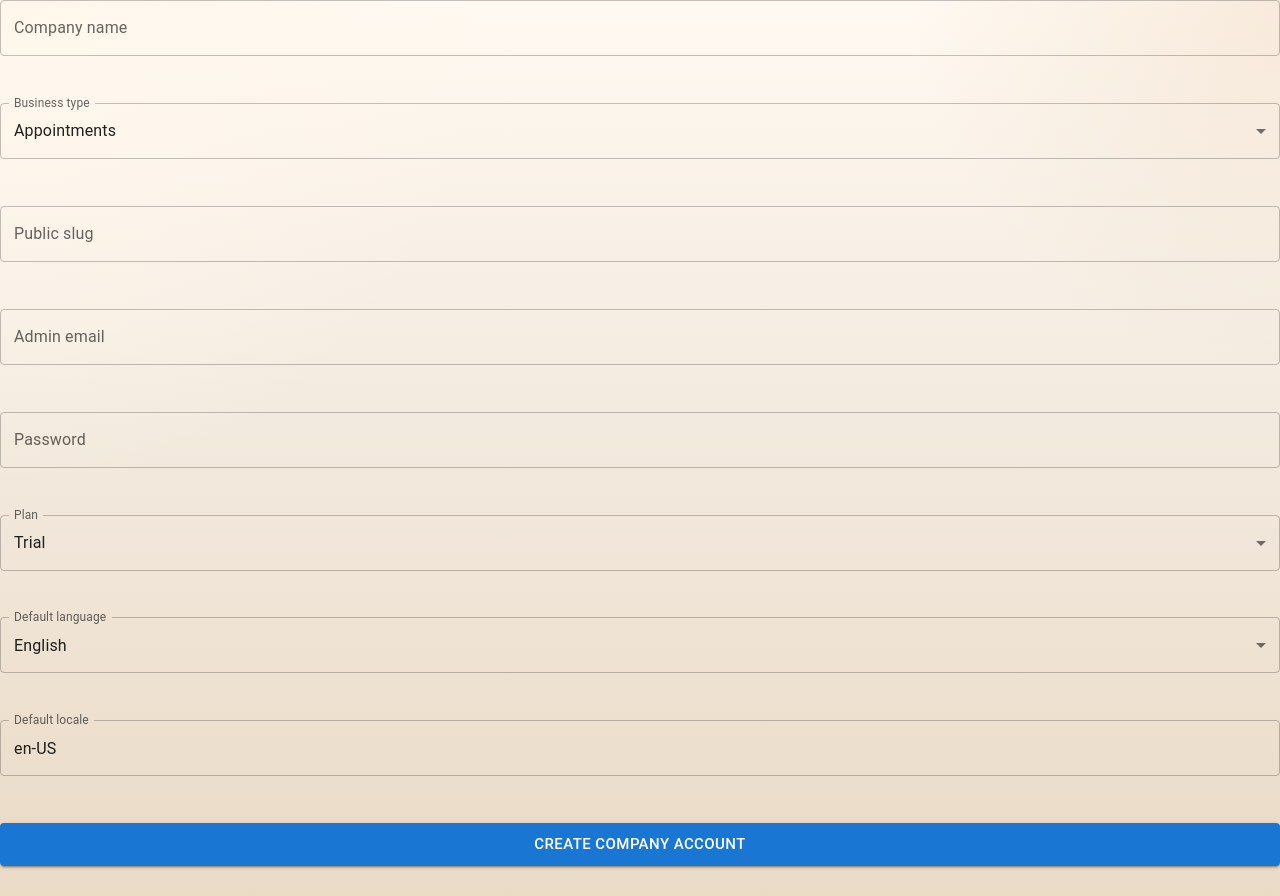
Test: RegistrationForm › submits valid registration data and shows the success message
Type "Acme Wellness" into the field labelled "Company name" at (640, 28), box [0,0,1279,56]
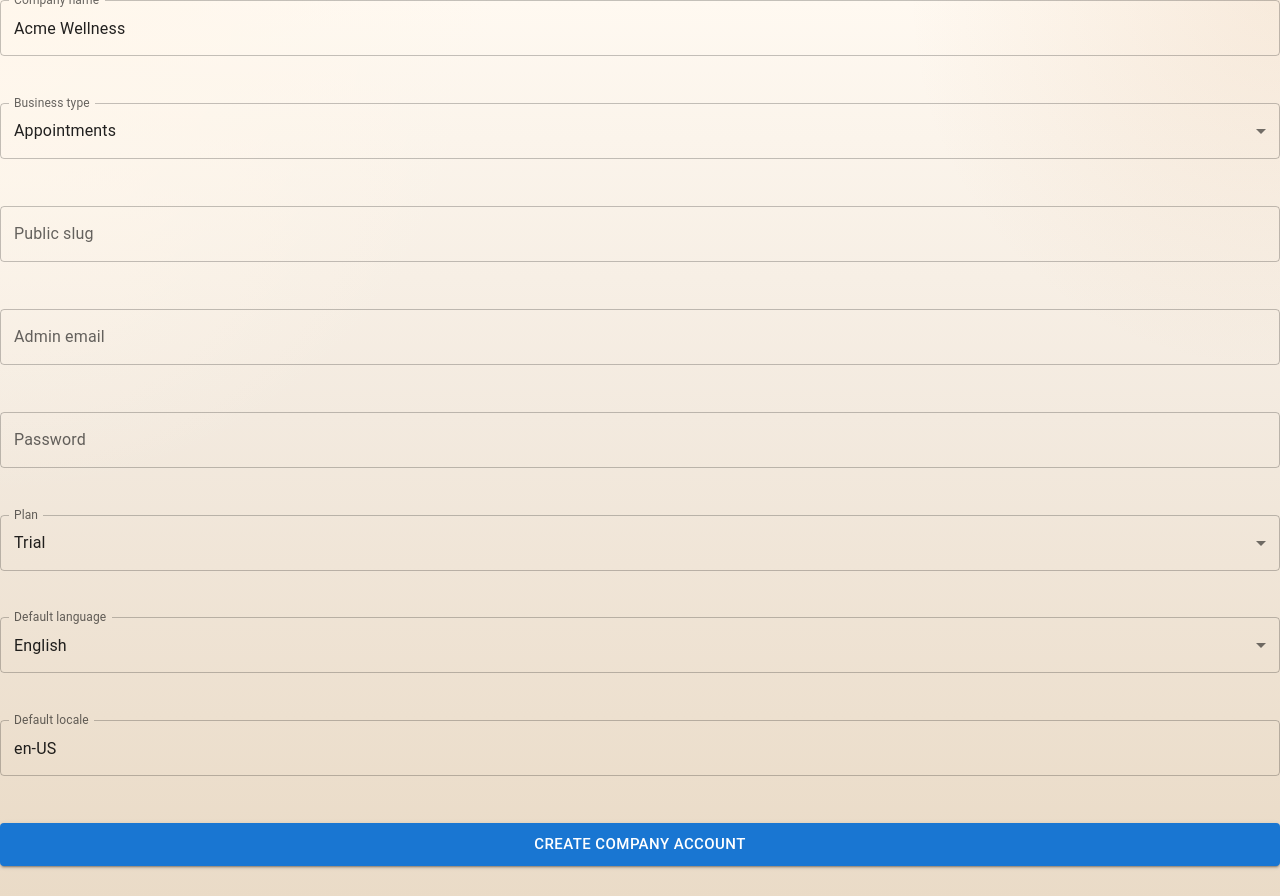
Type "acme-wellness" into the field labelled "Public slug" at (640, 234), box [0,206,1279,262]
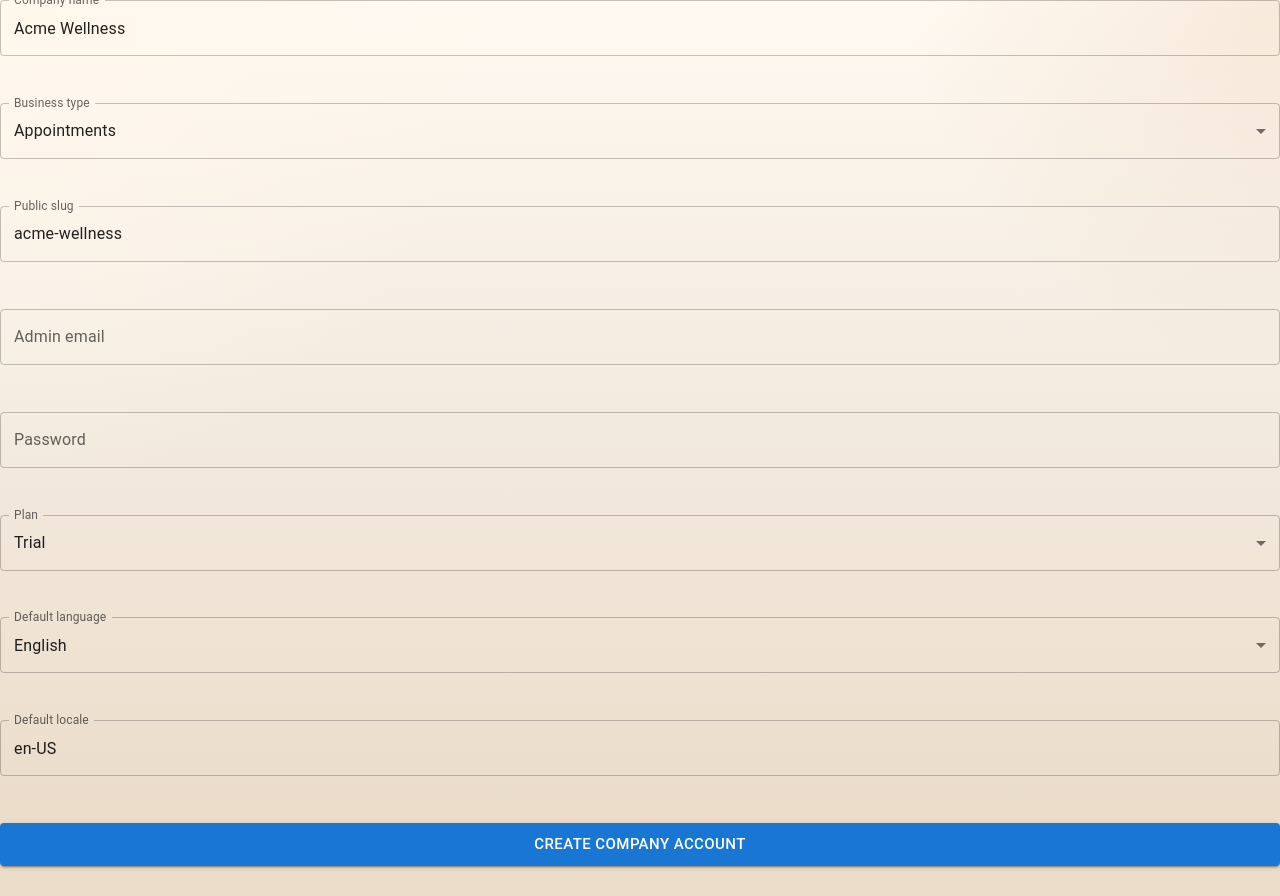
Type "admin@acme.com" into the field labelled "Admin email" at (640, 337), box [0,309,1279,365]
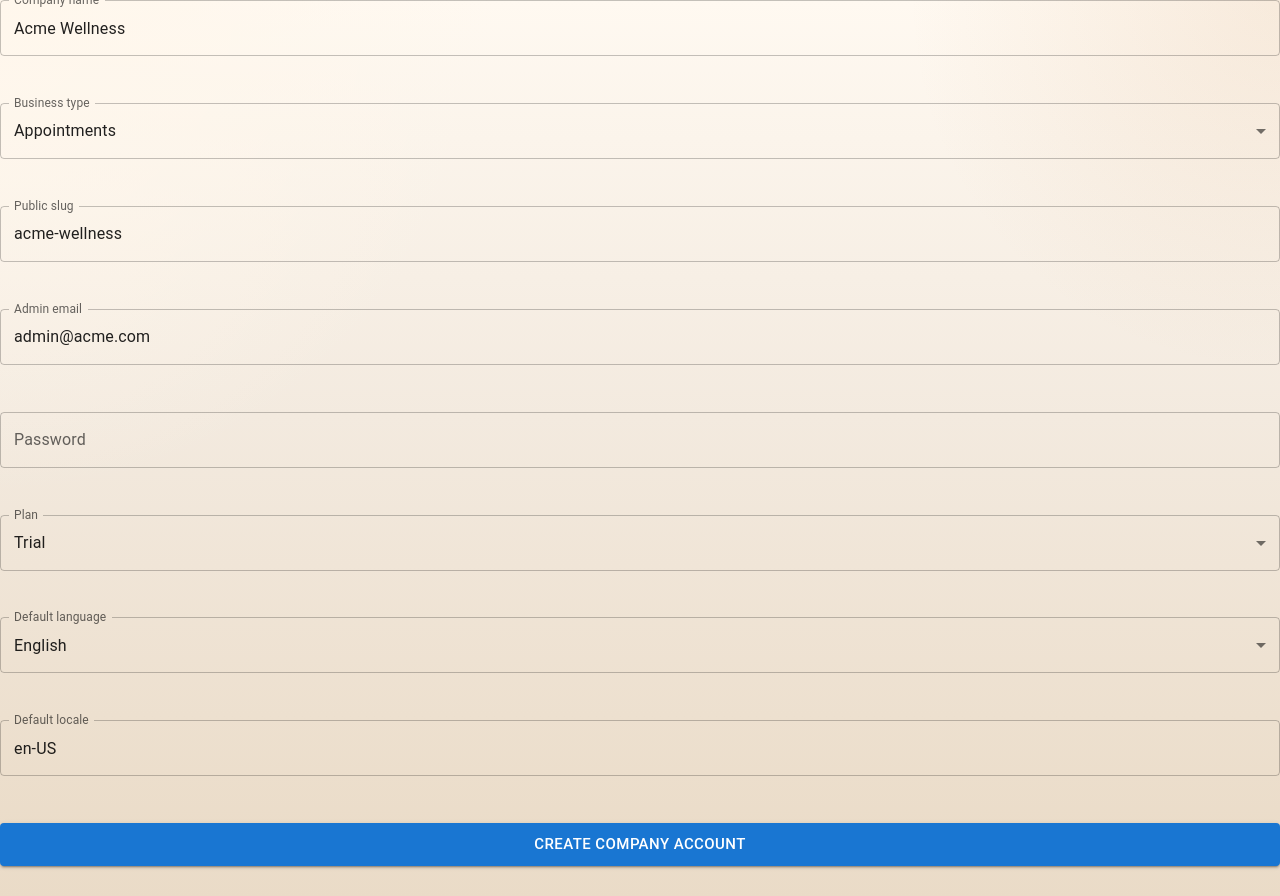
Type "SecurePass123" into the password field labelled "Password" at (640, 440), box [0,412,1279,468]
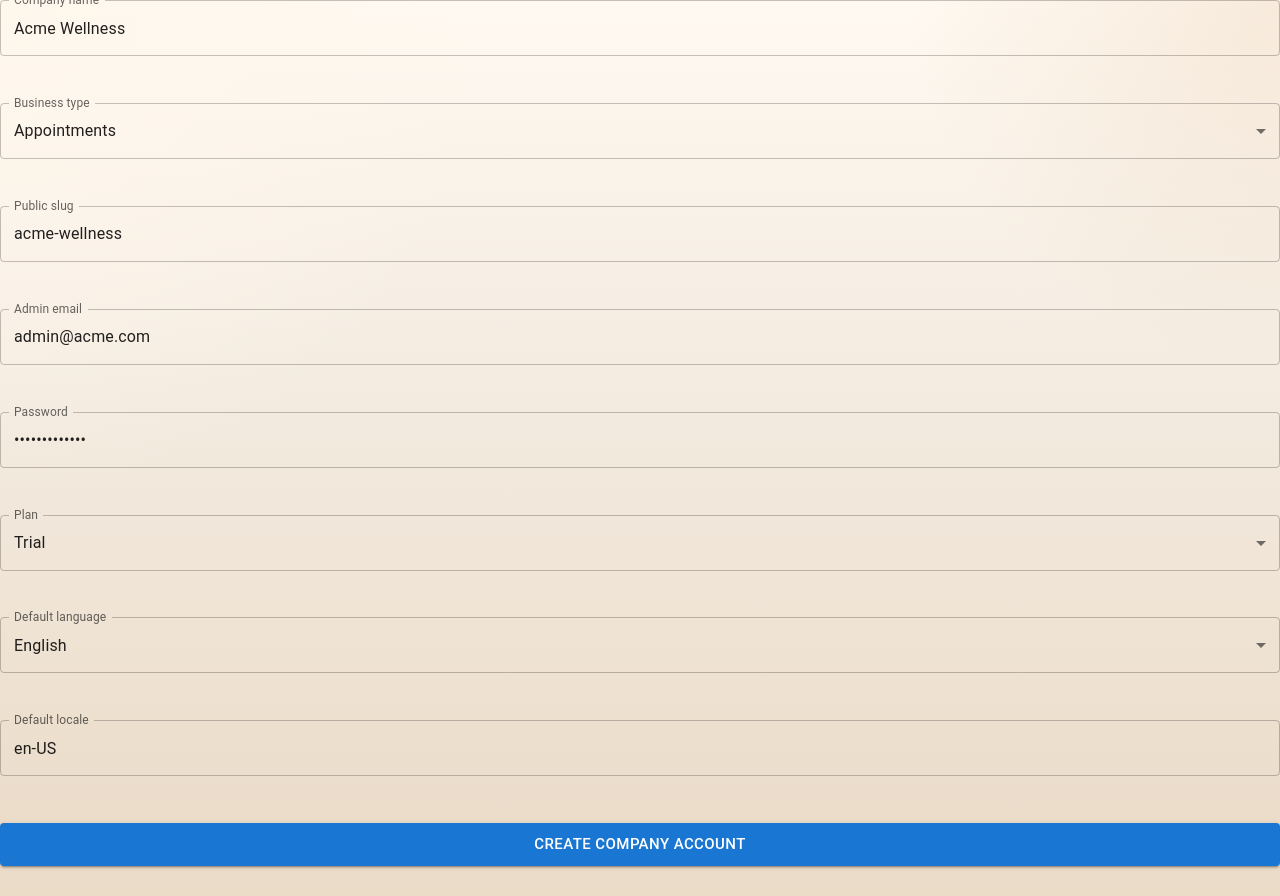
Click the button "Create company account" at (640, 844), box [0,823,1279,866]
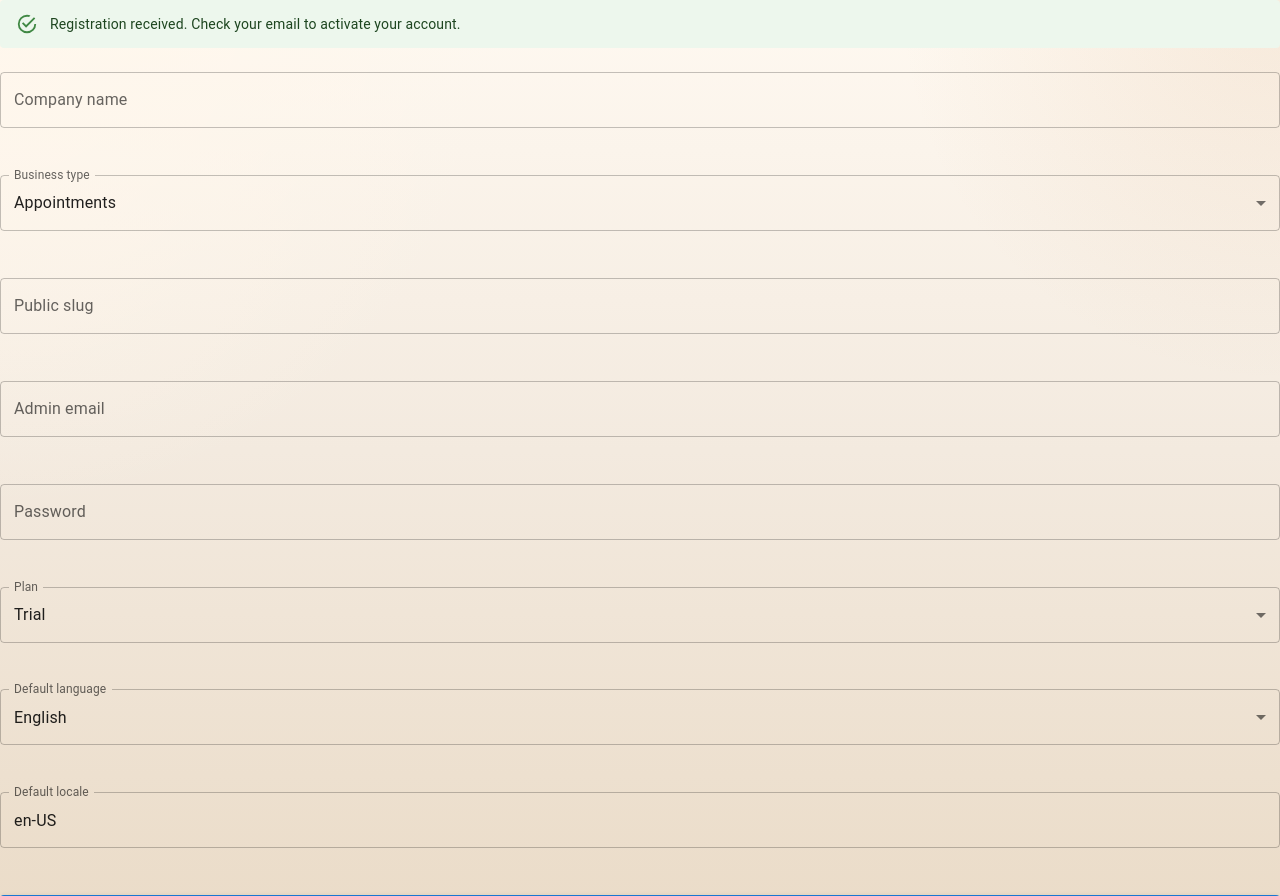
Check: the text "Registration received. Check your email to activate your account." is shown, box [50,16,461,32]
